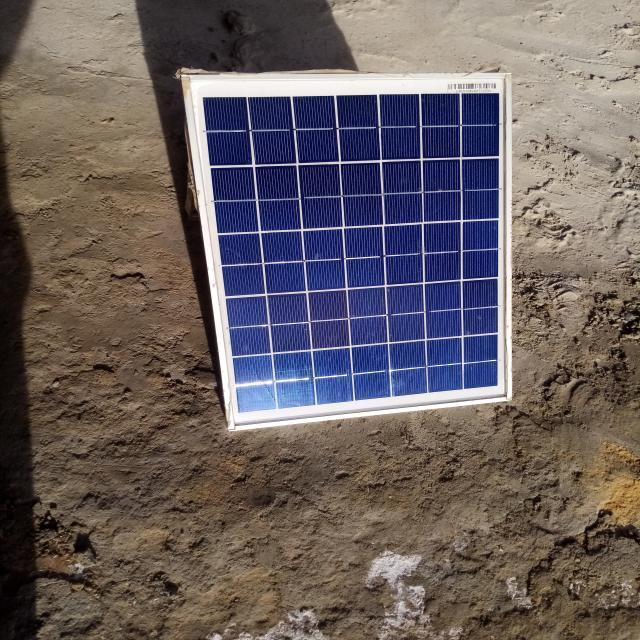Normal Solar Panel: (181, 72, 513, 428)
